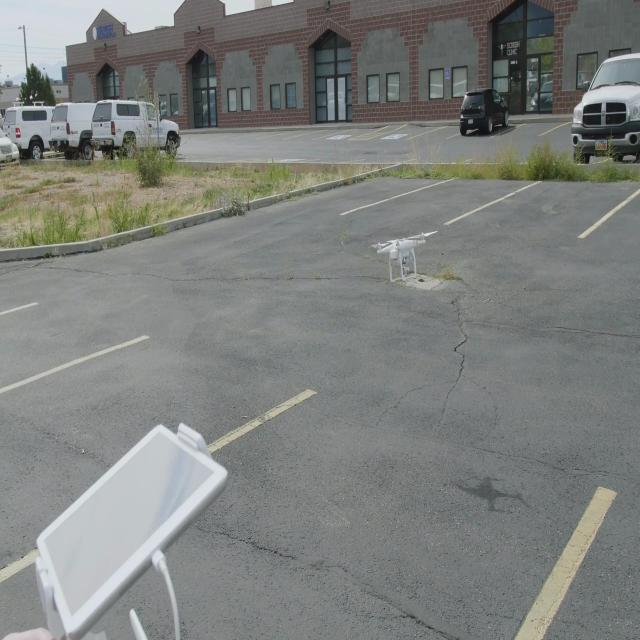drone: (374, 228, 428, 281)
